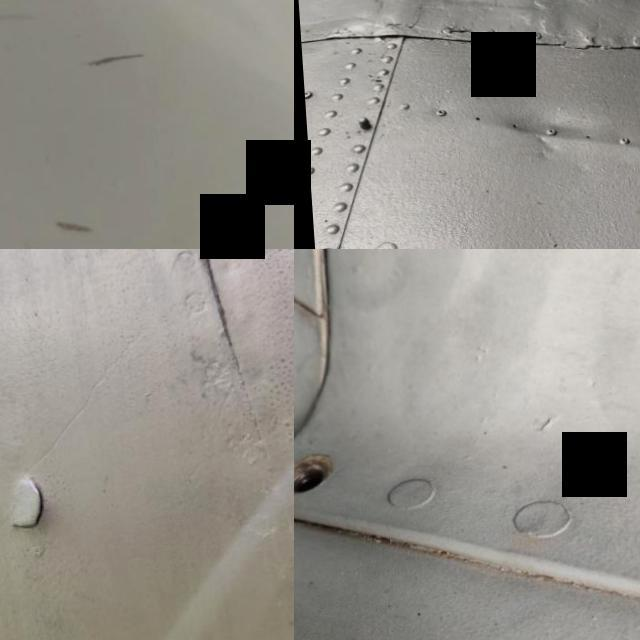Crack: (0, 0, 173, 249), (0, 461, 71, 552)
Dent: (494, 72, 624, 184), (482, 219, 620, 249)
Missing_Fastener: (294, 428, 350, 523)
